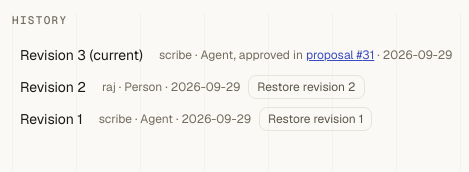
document history › a restore refused as stale reads the list and the document again
Click the button "Restore revision 1": (316, 118) 259,106 -> 372,130
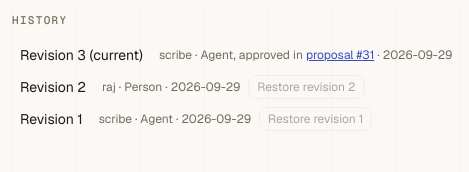
Click the button "Restore revision 1": (316, 118) 259,106 -> 372,130
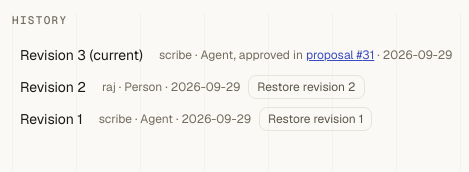
Expected: the button "Restore revision 1" is enabled, 259,106 -> 372,130
